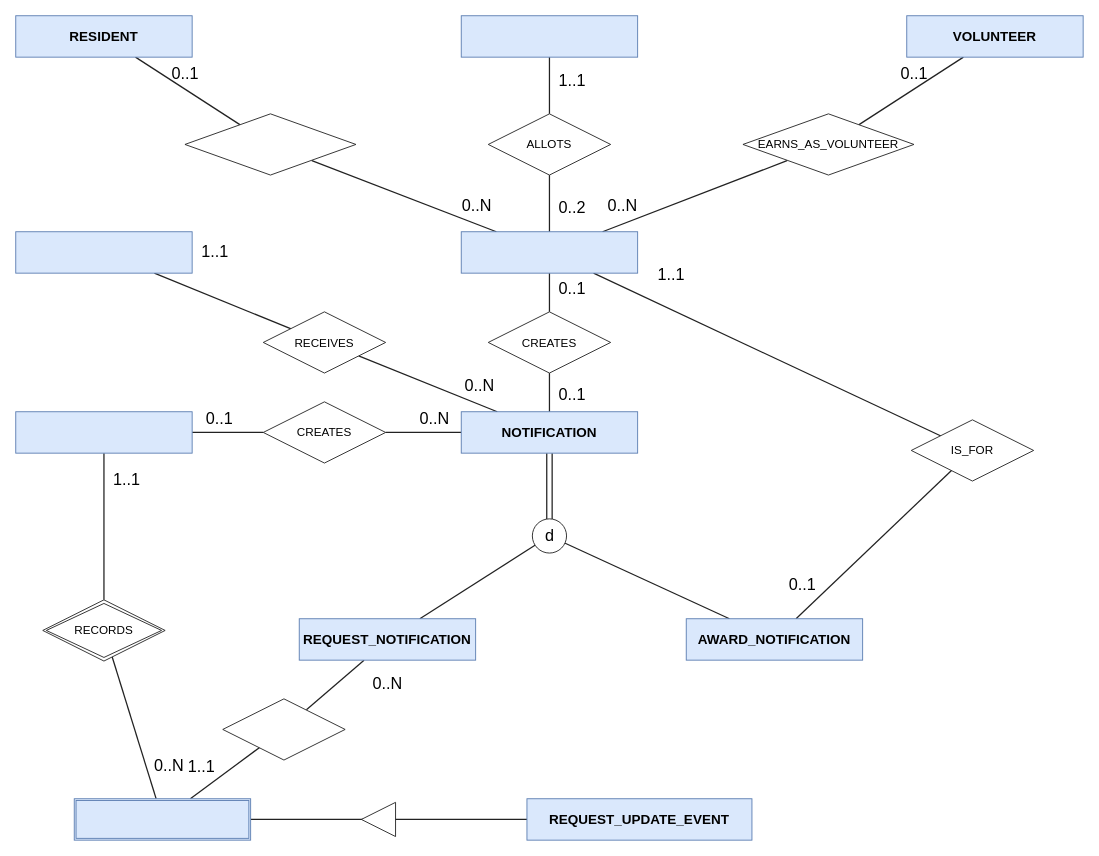
Image size: 1099x856. Some labels were removed from this diagram. The shapes that lost their labels are listed below. From the top down, each one's centre as x and y in pixels, then its label:
At (549,36): "ASSIGNMENT".
At (270,144): "EARNS_AS_RESIDENT".
At (103,252): "ACCOUNT".
At (549,252): "ECOPOINTS_AWARD".
At (103,432): "PICKUP_REQUEST".
At (283,729): "REFERS_TO".
At (162,819): "REQUEST_EVENT".
